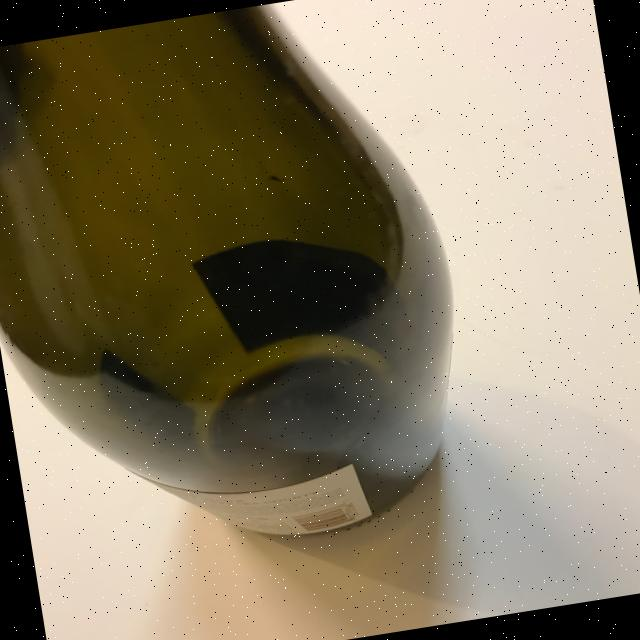glass: (0, 0, 489, 580)
